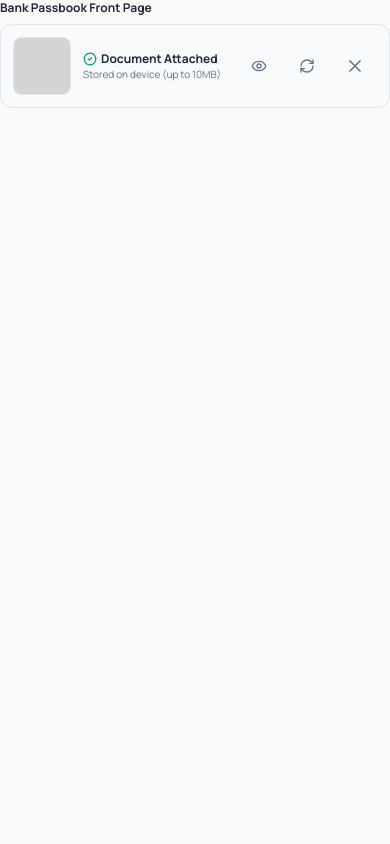
Test: Document UI & PhotoUpload Component Suite › 5. Preview Modal Flow: opens modal with enlarged view and dismisses on Escape or Close button
# Open modal
Click the button named "Preview Bank Passbook Front Page" at (259,66), box [237, 44, 281, 88]
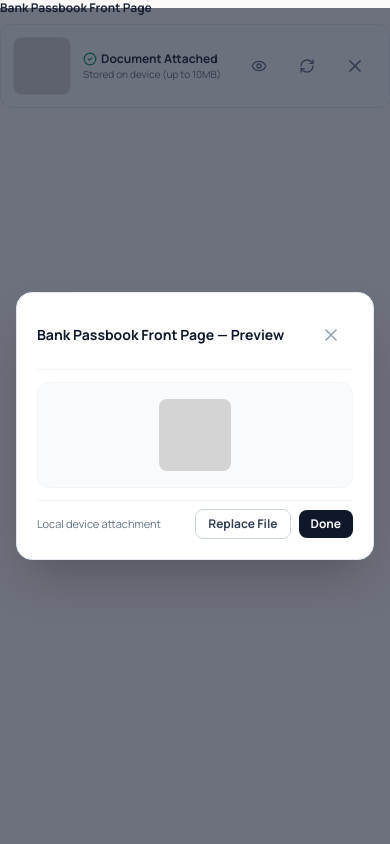
expect the dialog is shown: met
# Close modal via Close button
Click the button named "Close preview modal" at (331,335), box [309, 313, 353, 357]
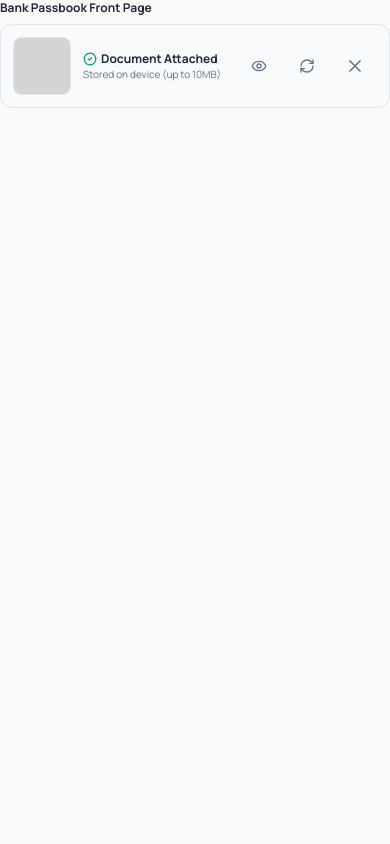
expect the dialog is gone: met
# Reopen and test Escape key dismissal
Click the button named "Preview Bank Passbook Front Page" at (259,66), box [237, 44, 281, 88]
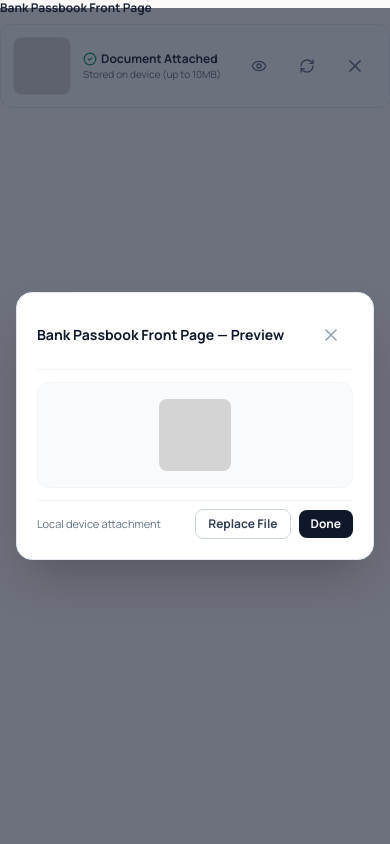
expect the dialog is shown: met
Press Escape
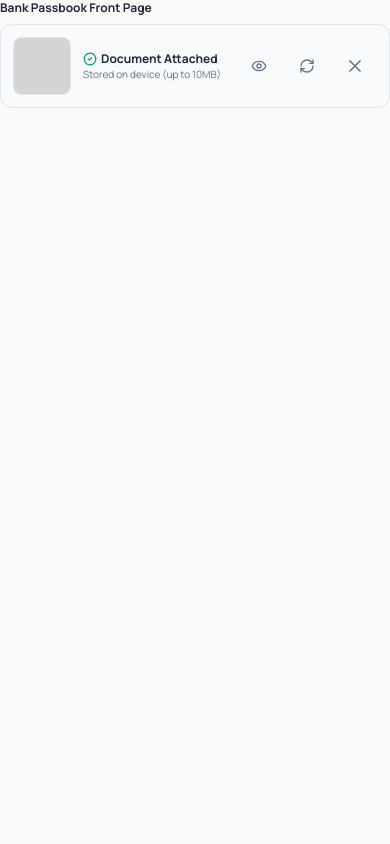
expect the dialog is gone: met
